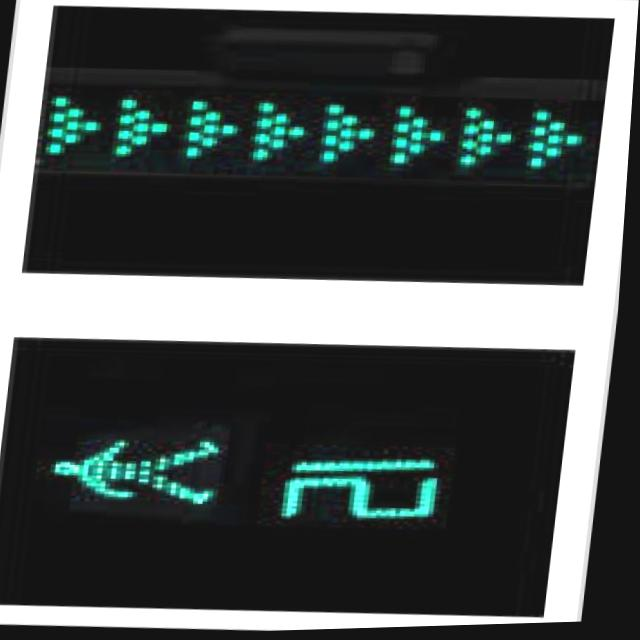green_light: (40, 406, 472, 555)
